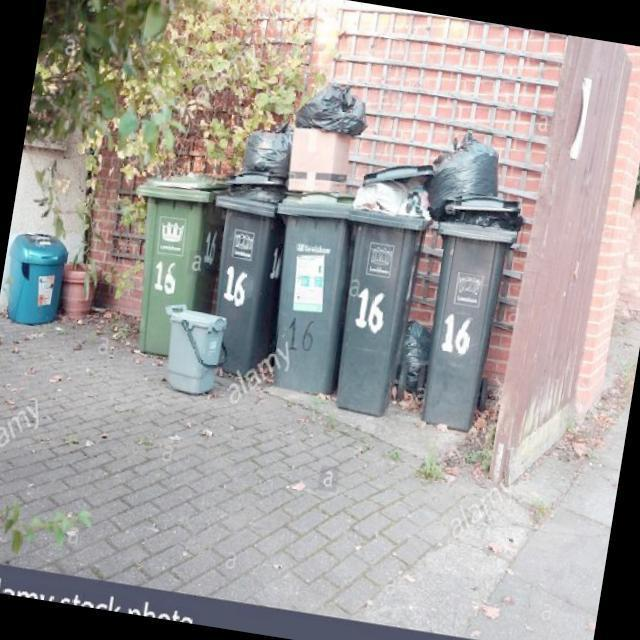garbage: (226, 114, 443, 228), (288, 73, 380, 149), (430, 128, 507, 217), (393, 315, 442, 404), (434, 198, 523, 232)
